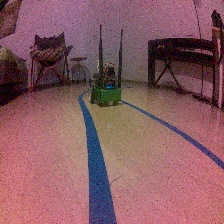rob: (86, 65, 122, 105)
